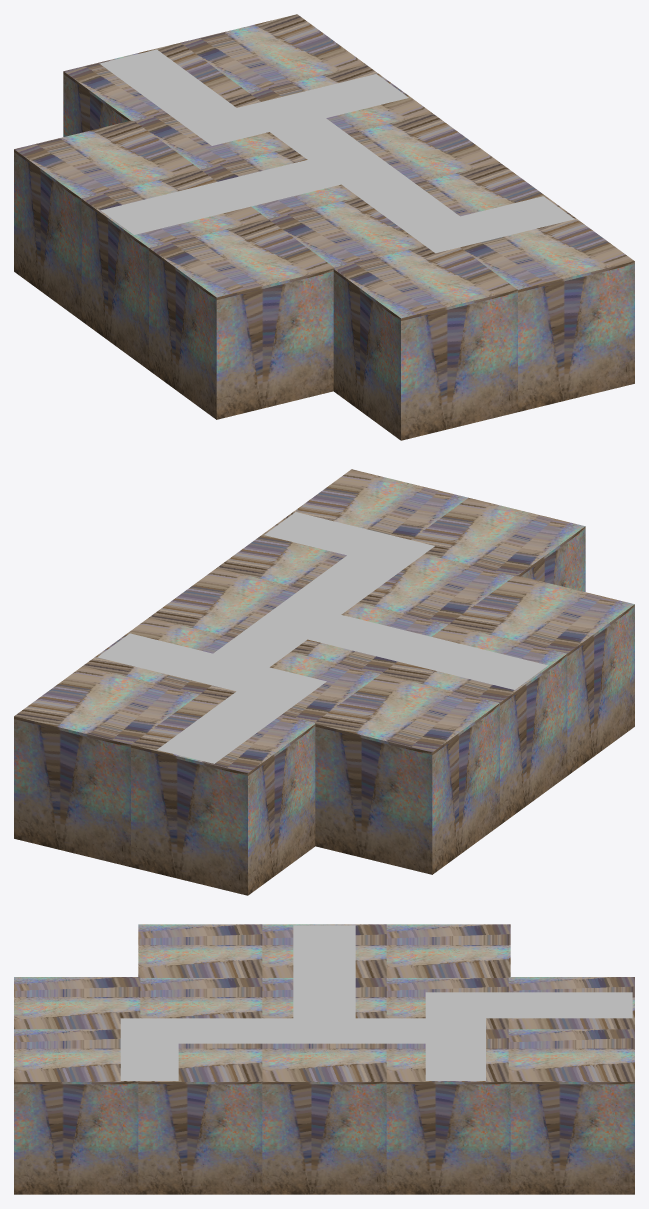
The model's file is SbS_Town01.fbx.
3 views of the same model, one above another, from view 1: azimuth 30°, elevation 25°; view 2: azimuth 150°, elevation 25°; view 3: azimuth 270°, elevation 25° (orthographic). The views are drawn at different scales.
Visible parts, largest first — view 1: Base, Road; view 2: Base, Road; view 3: Base, Road.
Boxes of the visible parts, box(x1,y1,x2,y2) form: Base: box(14, 14, 634, 440); Road: box(99, 49, 574, 253); Base: box(14, 469, 634, 895); Road: box(97, 512, 547, 763); Base: box(14, 924, 634, 1194); Road: box(120, 925, 632, 1080).
Bounding box in the file's own units: 3000 × 1001 × 5000.
